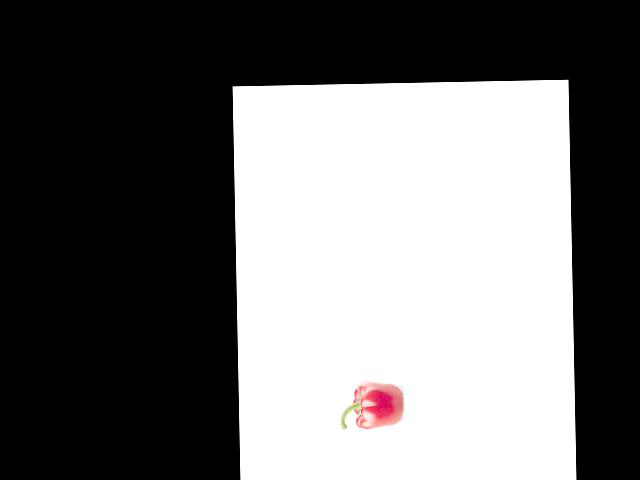bell_pepper: (339, 382, 404, 431)
